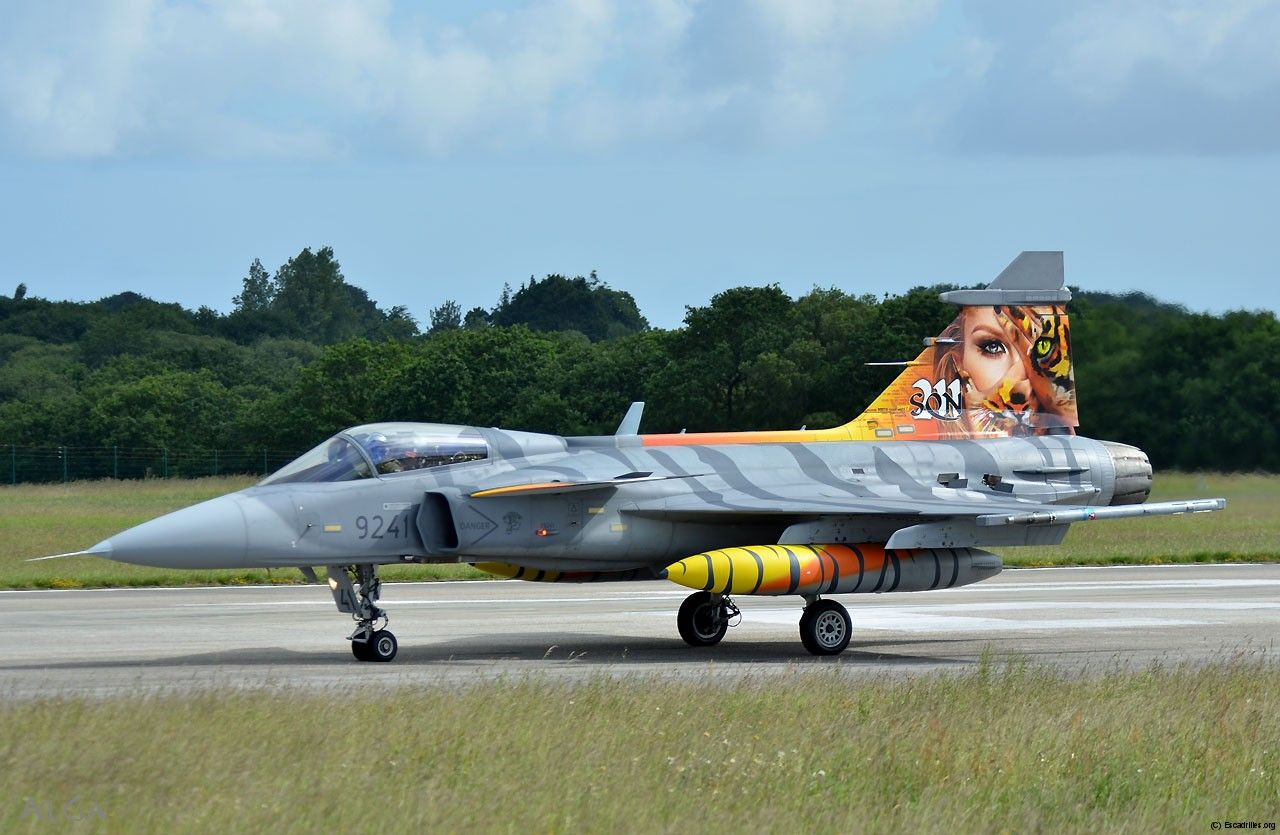JAS39: (23, 250, 1226, 661)
